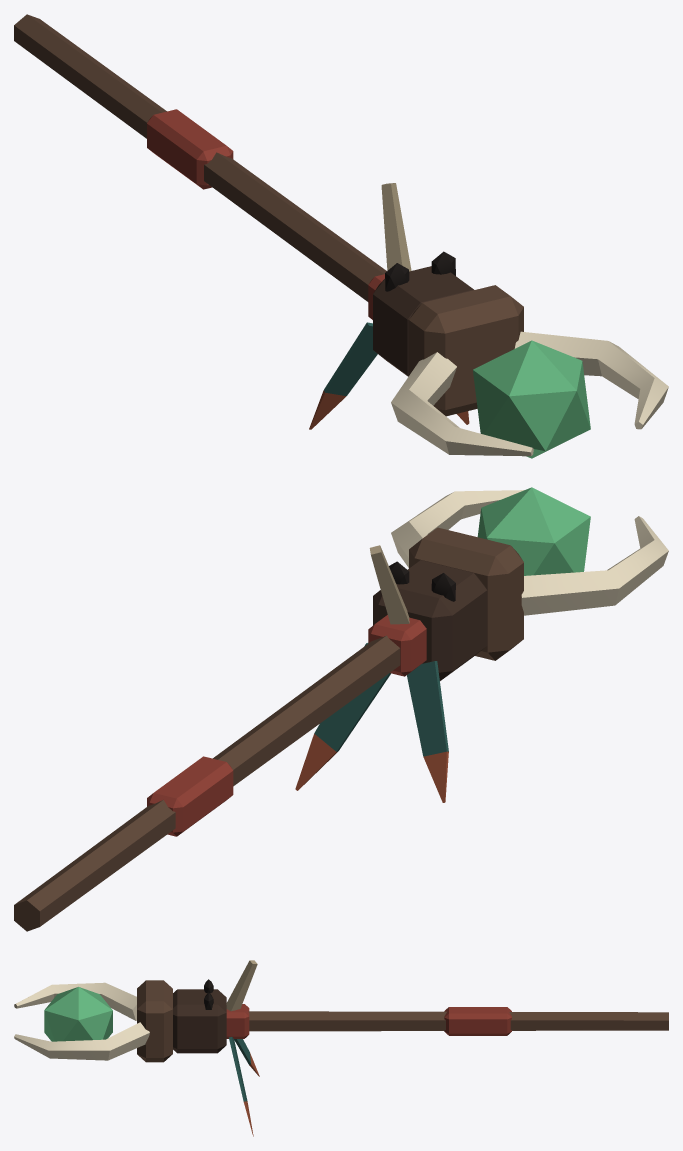
The model's file is xama_weapon.fbx.
The picture shows the model from 3 angles, top to bottom: view 1: azimuth 30°, elevation 25°; view 2: azimuth 150°, elevation 25°; view 3: azimuth 270°, elevation 25°; orthographic projection. The views are drawn at different scales.
Visible parts, largest first — view 1: xama_weapon; view 2: xama_weapon; view 3: xama_weapon.
Boxes of the visible parts, x1,y1,x2,y2 form: xama_weapon: [14, 14, 668, 458]; xama_weapon: [14, 487, 668, 931]; xama_weapon: [14, 960, 668, 1136].
Size of the model in its own units: 0.6867 by 0.7553 by 2.92.
